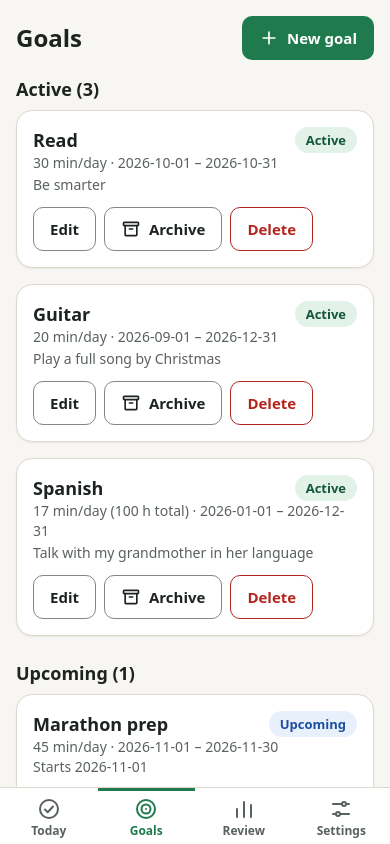
Scenario: Goals (M1-AC5, M1-AC9, M1-AC18) › deleting a goal with a running timer warns and discards the timer (M2-AC5)
Click the button "Delete" below "Read": (272,229) [230,207,313,251]
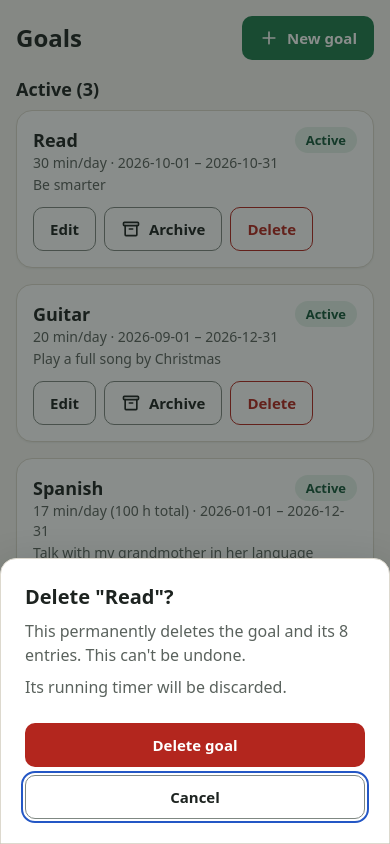
Expected: the text "Its running timer will be discarded." is shown, [25,676,287,698]
Click the button "Delete goal": (195,745) [25,723,365,767]
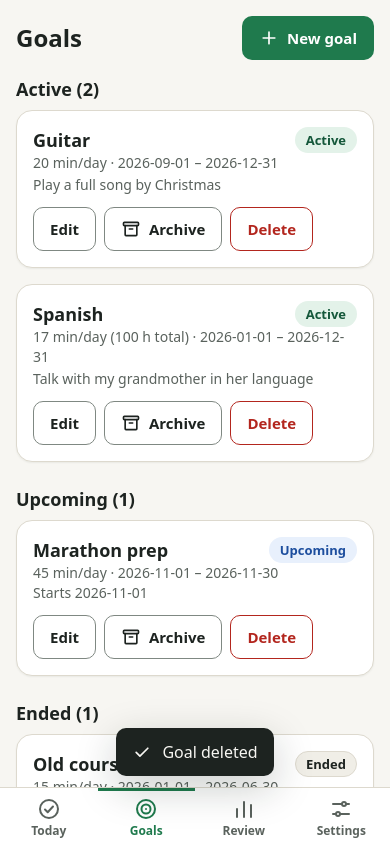
Expected: the link "Read" is gone
Click the button "Delete" below "Guitar": (272,229) [230,207,313,251]
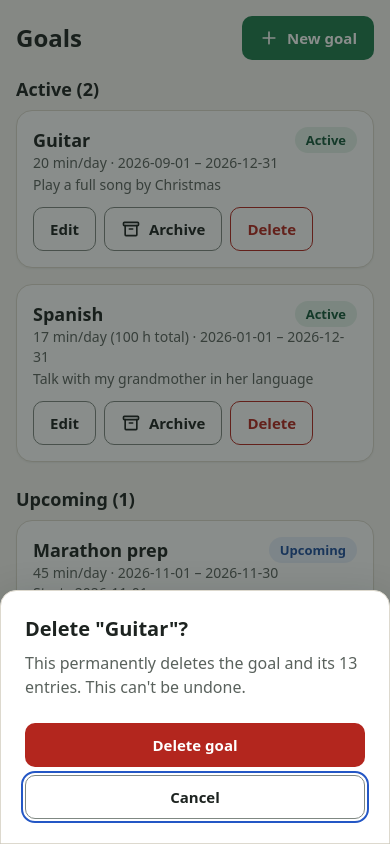
Expected: the text "Its running timer will be discarded." is not shown
Click the button "Delete goal": (195,745) [25,723,365,767]
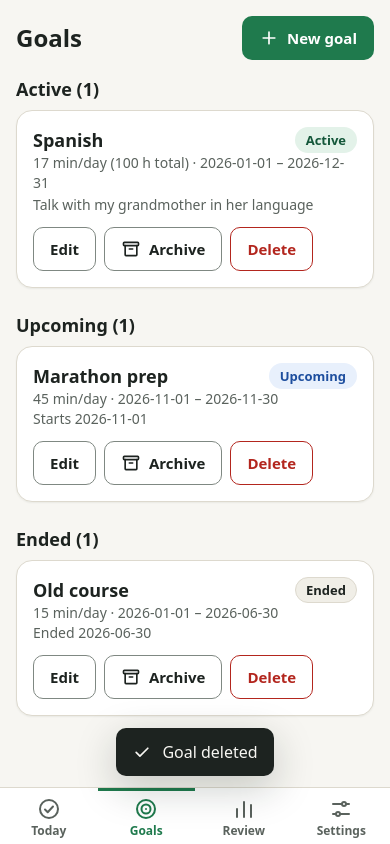
Expected: the link "Guitar" is gone
